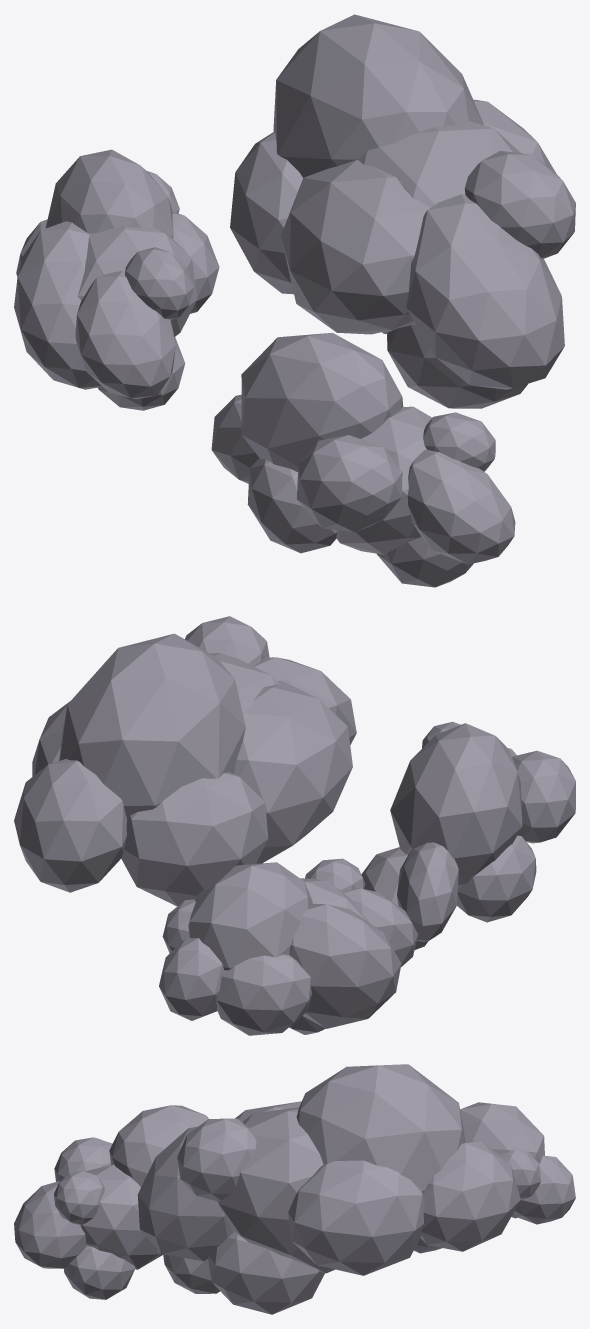
Rendered from clouds.fbx.
3 renders of one model, top to bottom at view 1: azimuth 30°, elevation 25°; view 2: azimuth 150°, elevation 25°; view 3: azimuth 270°, elevation 25°, orthographic. The views are drawn at different scales.
Visible parts, largest first — view 1: Cloud; view 2: Cloud; view 3: Cloud.
Boxes of the visible parts, x1,y1,x2,y2 form: Cloud: (14, 14, 575, 587); Cloud: (14, 616, 575, 1035); Cloud: (14, 1064, 575, 1314).
Bounding box in the file's own units: 225 × 124 × 152.
